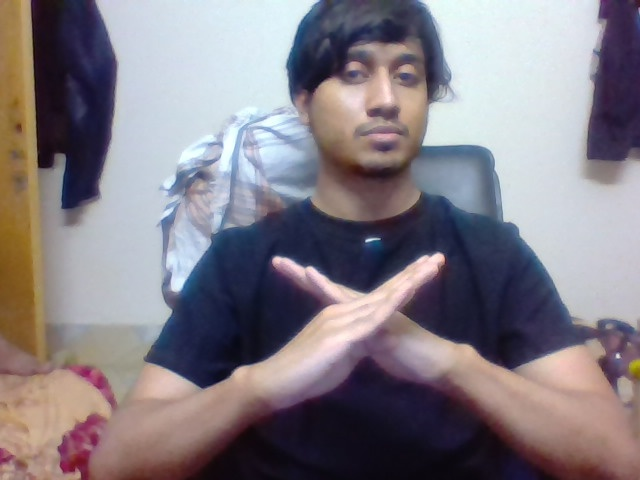X: (259, 245, 470, 396)
